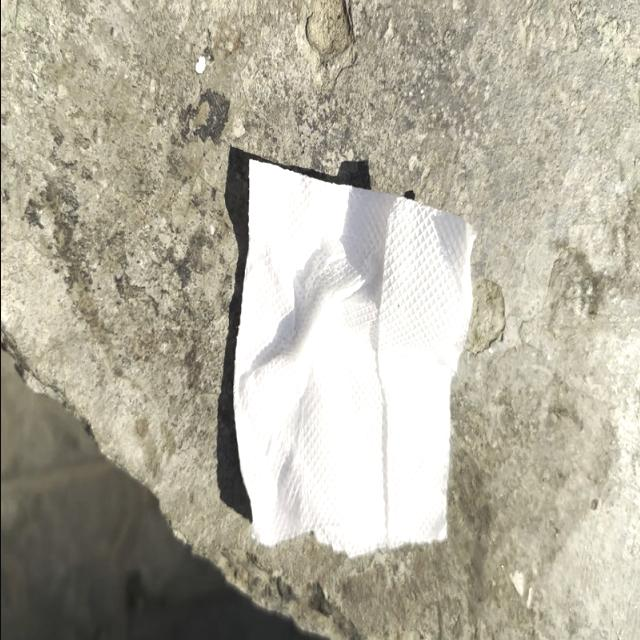tissue: (237, 131, 478, 555)
